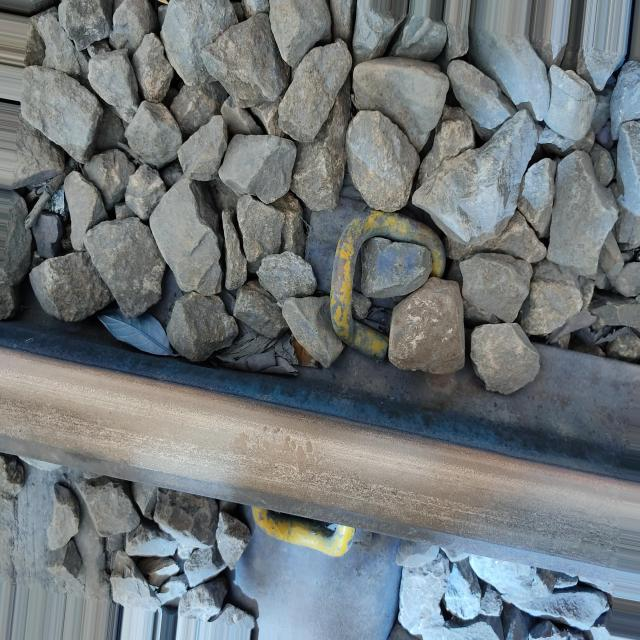Good Fasteners: (305, 198, 443, 359), (253, 508, 355, 557)
